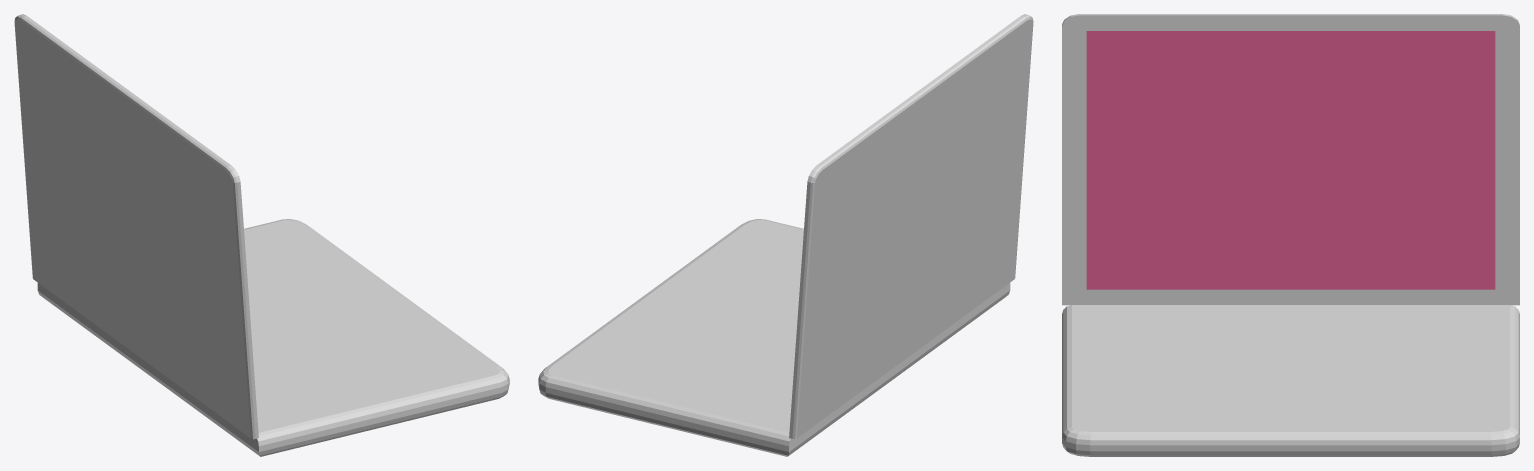
The model's file is Laptop.fbx.
3 views of the same model, side by side, from view 1: azimuth 30°, elevation 25°; view 2: azimuth 150°, elevation 25°; view 3: azimuth 270°, elevation 25° (orthographic). The views are drawn at different scales.
Visible parts, largest first — view 1: laptop; view 2: laptop; view 3: laptop.
Part boxes in pixels (box(x1,y1,x2,y2)): laptop: box(14, 14, 509, 456); laptop: box(538, 14, 1033, 456); laptop: box(1062, 14, 1519, 456).
Bounding box in the file's own units: 23.02 × 22.72 × 31.
